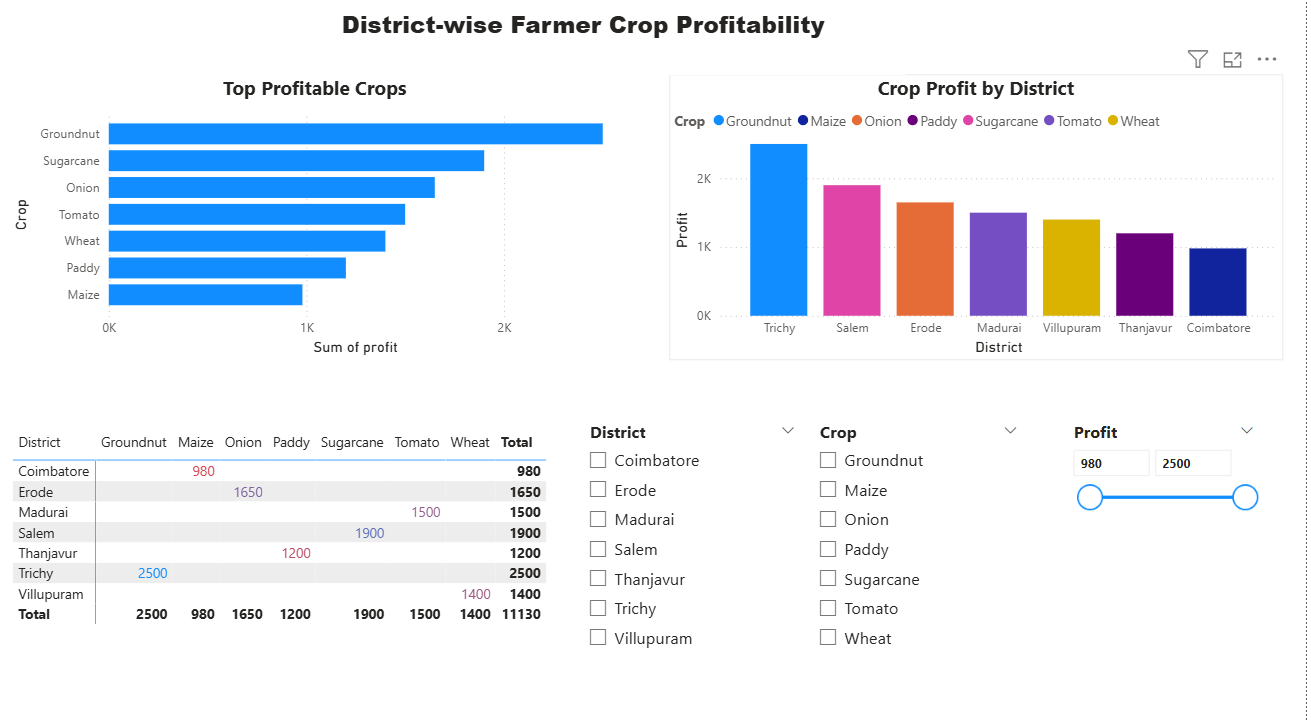

This screenshot's page, from the dashboard's own definition file:
{"tool":"powerbi","page":{"name":"Page 1","canvas":[1280,720],"ordinal":0},"visuals":[{"type":"clusteredBarChart","title":"Top Profitable Crops","fields":{"Category":["Selling_Prices.Crop"],"Y":["Sum(Selling_Prices.Profit_Per_unit)"]},"box":[10,80,600,280],"z":0},{"type":"columnChart","title":"Crop Profit by District","fields":{"Category":["Selling_Prices.District"],"Series":["Selling_Prices.Crop"],"Y":["Sum(Selling_Prices.Profit)"]},"box":[657.1,80,600,280],"z":1},{"type":"pivotTable","fields":{"Rows":["Selling_Prices.District"],"Columns":["Selling_Prices.Crop"],"Values":["Sum(Selling_Prices.Profit)"]},"box":[10,422.9,537.1,280],"z":2},{"type":"slicer","fields":{"Values":["Selling_Prices.District"]},"box":[565.7,412.9,225.7,242.9],"z":3},{"type":"slicer","fields":{"Values":["Selling_Prices.Crop"]},"box":[791.4,412.9,218.6,242.9],"z":4},{"type":"slicer","fields":{"Values":["Selling_Prices.Profit"]},"box":[1040,412.9,201.4,252.9],"z":5},{"type":"textbox","title":"District-wise Farmer Crop Profitability","box":[331.4,14.3,557.1,65.7],"z":6}]}

Visuals, with their boxes in screenshot pixels (x1, y1, x2, y2), scaled from the page's 1280x720 canvas onto the 1307x722 screenshot:
"Top Profitable Crops" clusteredBarChart: l=10, t=80, r=623, b=361
"Crop Profit by District" columnChart: l=671, t=80, r=1284, b=361
pivotTable - Selling_Prices.District x Selling_Prices.Crop: l=10, t=424, r=559, b=705
slicer - Selling_Prices.District: l=578, t=414, r=808, b=658
slicer - Selling_Prices.Crop: l=808, t=414, r=1031, b=658
slicer - Selling_Prices.Profit: l=1062, t=414, r=1268, b=668
"District-wise Farmer Crop Profitability" textbox: l=338, t=14, r=907, b=80
